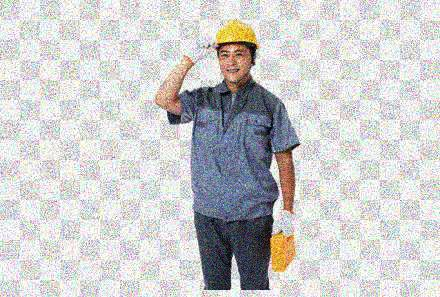helmet: (211, 17, 260, 82)
